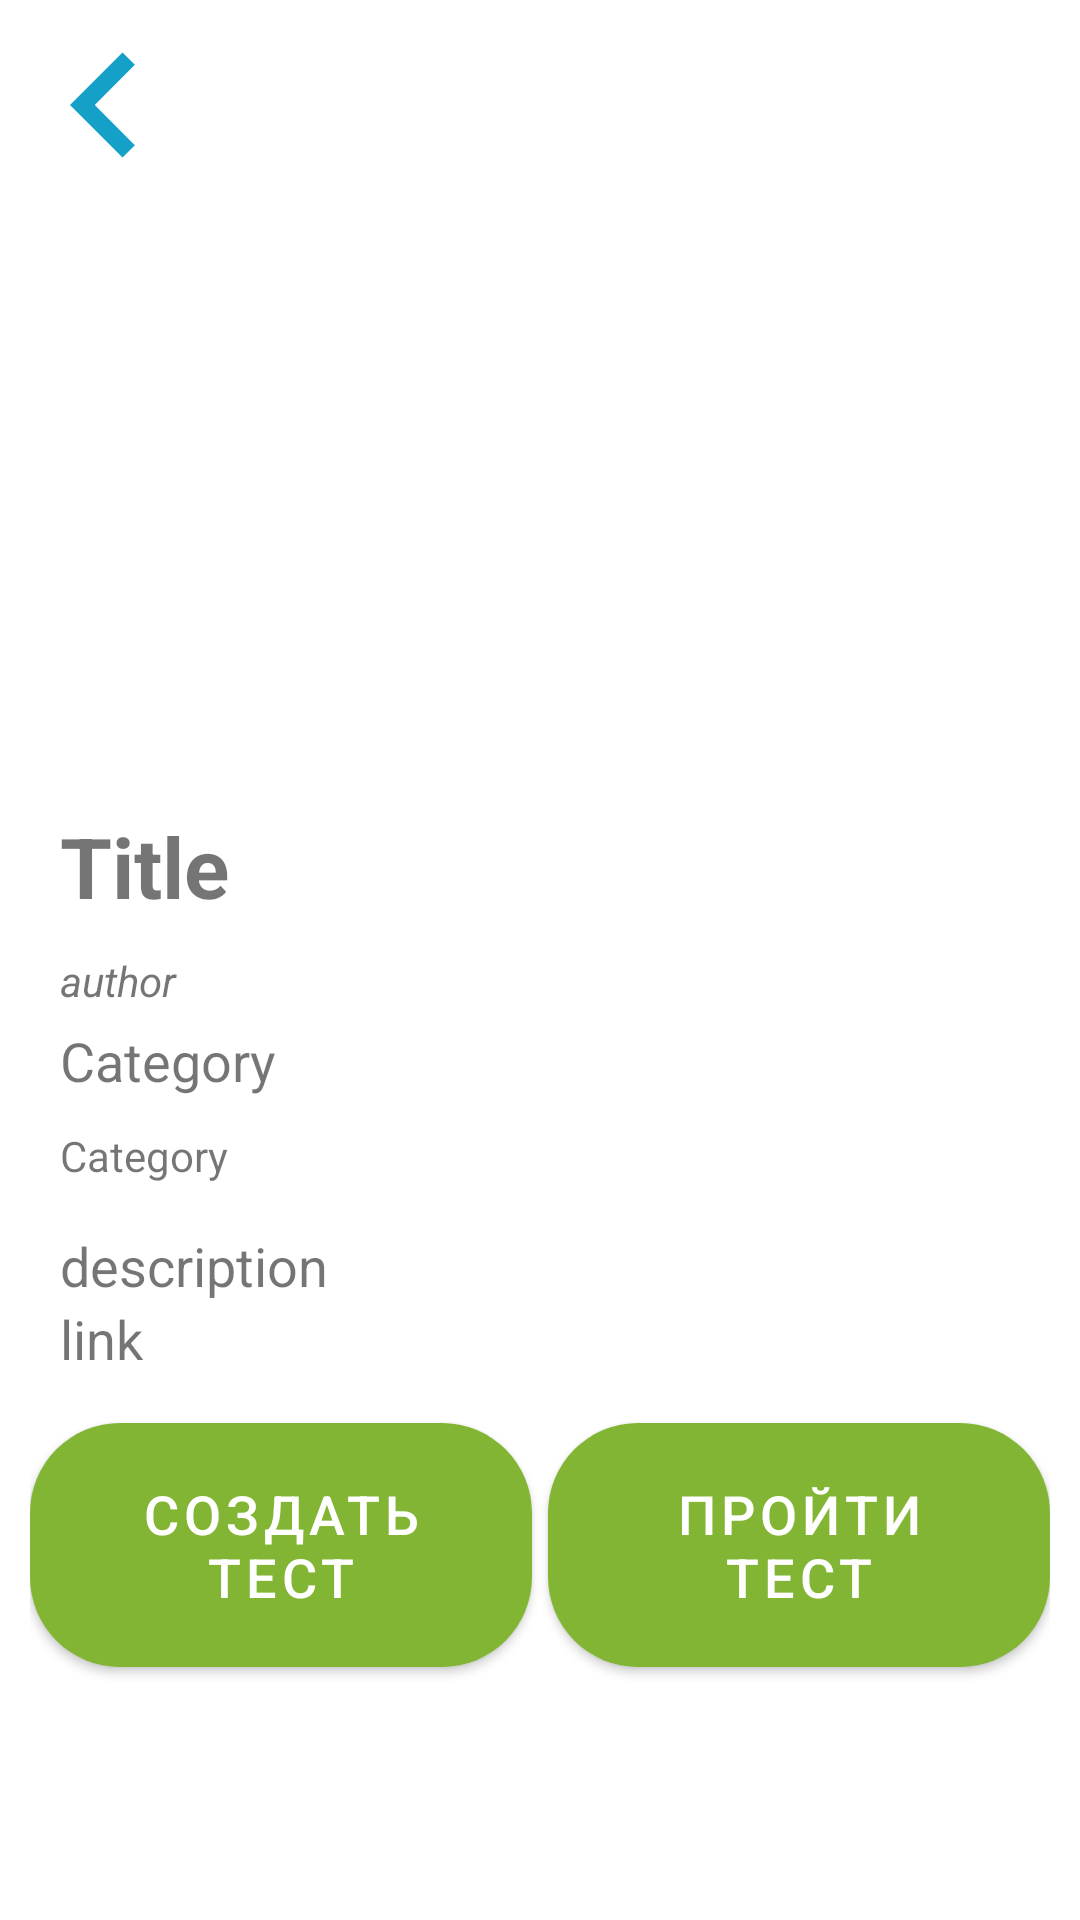

Icon click points for this 1080w x 1920h phone screenshot, format (x,y):
left: (102,105)
